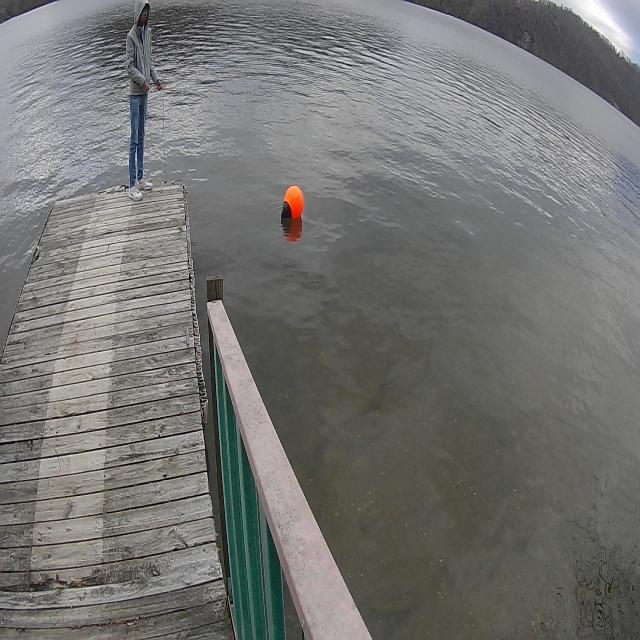Buoy: (280, 180, 306, 229)
